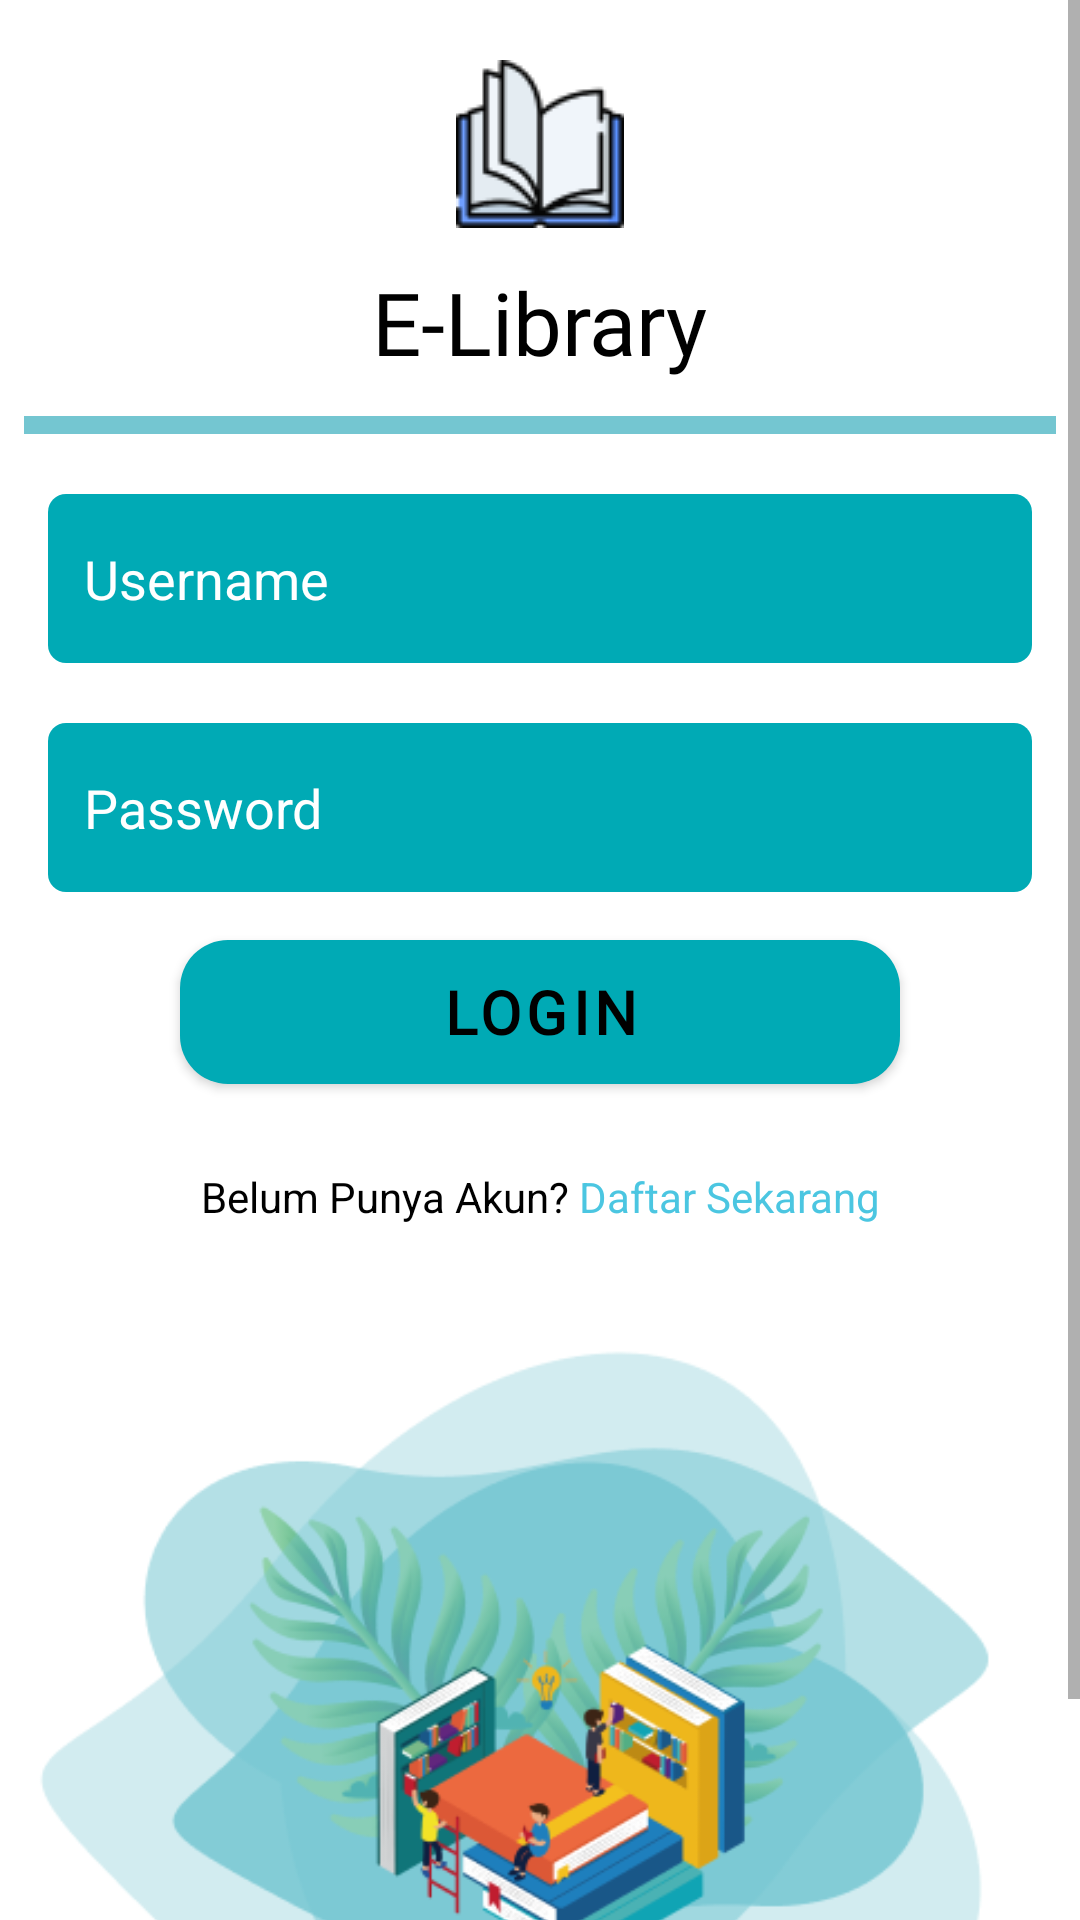

Where to tap for icons on this 1080px×1920px app screen, as (x,y):
book: (540,144)
